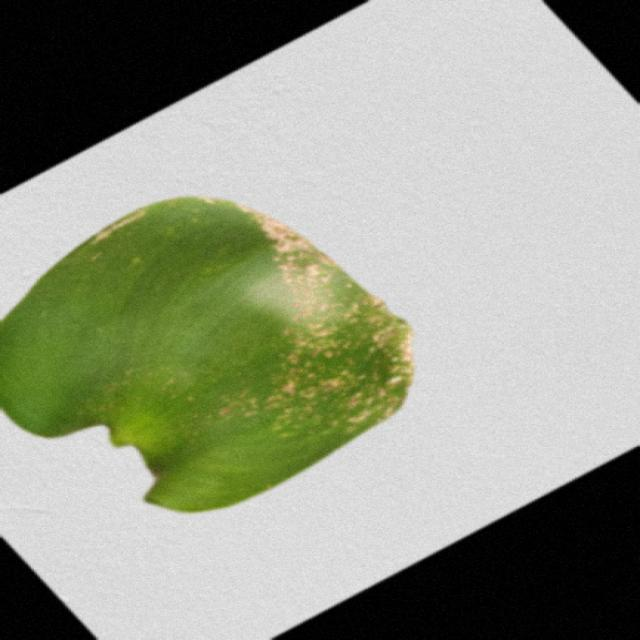daun berpenyakit bercak: (2, 198, 413, 512)
